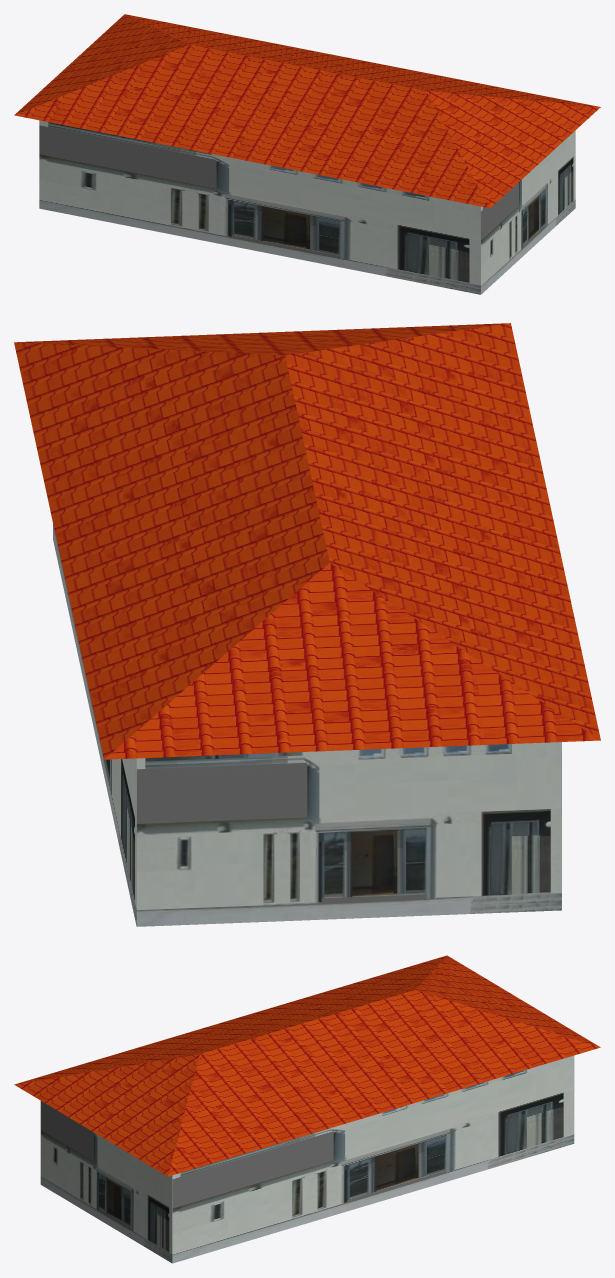
3 renders of one model, top to bottom at view 1: azimuth 30°, elevation 25°; view 2: azimuth 150°, elevation 25°; view 3: azimuth 270°, elevation 25°, orthographic. The views are drawn at different scales.
Visible parts, largest first — view 1: CityEngineMaterial_12_m, CityEngineMaterial_11_m; view 2: CityEngineMaterial_12_m, CityEngineMaterial_11_m; view 3: CityEngineMaterial_12_m, CityEngineMaterial_11_m.
Part boxes in pixels (<box>): CityEngineMaterial_12_m: <box>14,14,600,208</box>; CityEngineMaterial_11_m: <box>39,120,575,294</box>; CityEngineMaterial_12_m: <box>14,323,600,759</box>; CityEngineMaterial_11_m: <box>53,524,561,926</box>; CityEngineMaterial_12_m: <box>14,955,600,1176</box>; CityEngineMaterial_11_m: <box>40,1055,574,1263</box>.
Bounding box in the file's own units: 25.59 × 7.67 × 28.68.
